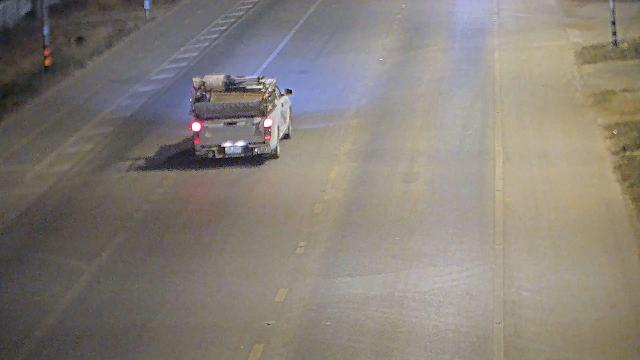pickup-truck: (188, 72, 293, 162)
